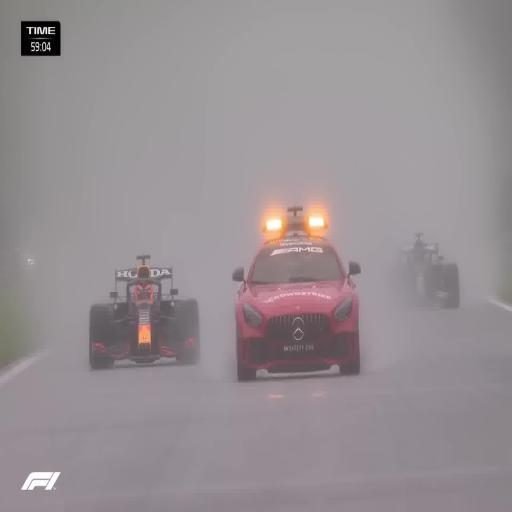f1_car: (233, 206, 360, 380), (89, 255, 199, 368), (397, 232, 459, 308)
